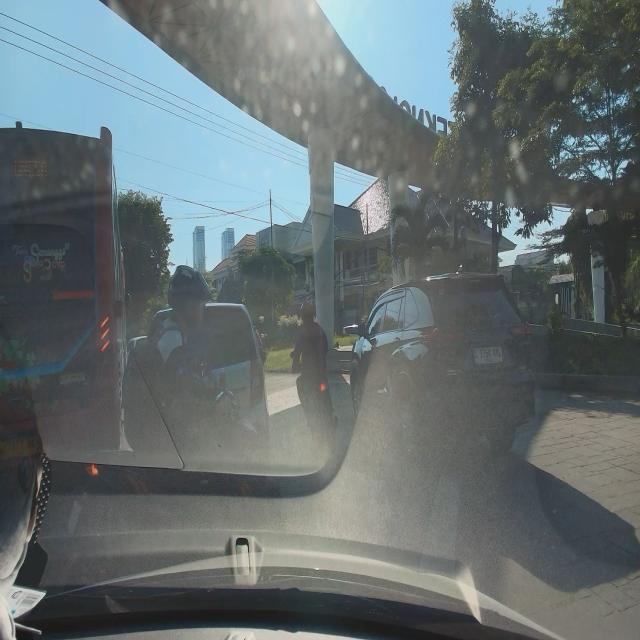bus: (0, 119, 130, 468)
car: (350, 268, 536, 457), (142, 302, 273, 463)
license-plate: (1, 439, 38, 457), (473, 345, 503, 365)
